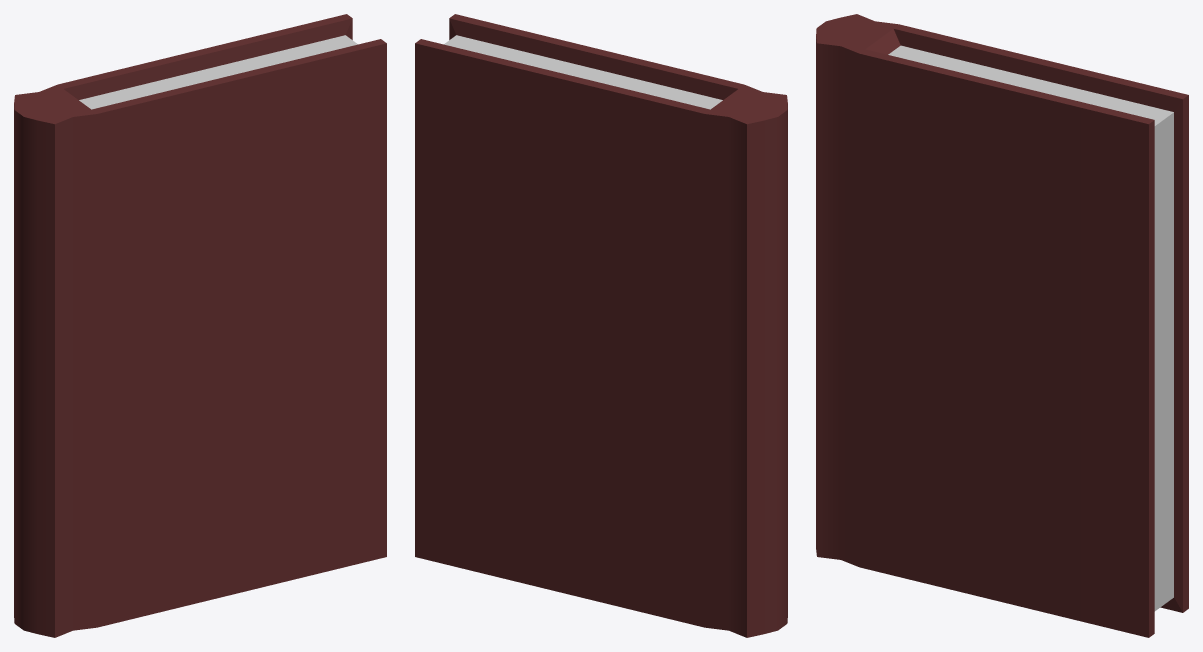
File: book_1.fbx
3 renders of one model, left to right at view 1: azimuth 30°, elevation 25°; view 2: azimuth 150°, elevation 25°; view 3: azimuth 330°, elevation 25°, orthographic.
Parts seen in each view (by area): view 1: pCube1; view 2: pCube1; view 3: pCube1.
Part boxes in pixels (x1=…): pCube1: x1=14, y1=14, x2=386, y2=637; pCube1: x1=415, y1=14, x2=787, y2=637; pCube1: x1=816, y1=14, x2=1188, y2=637.
Bounding box in the file's own units: 11.6 × 16.38 × 2.31.
